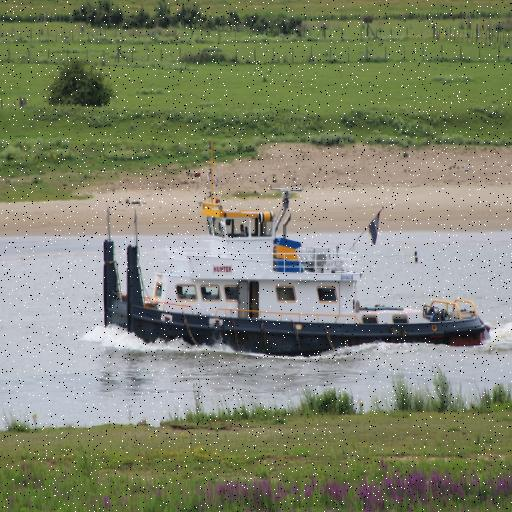tugboat: (102, 193, 496, 369)
